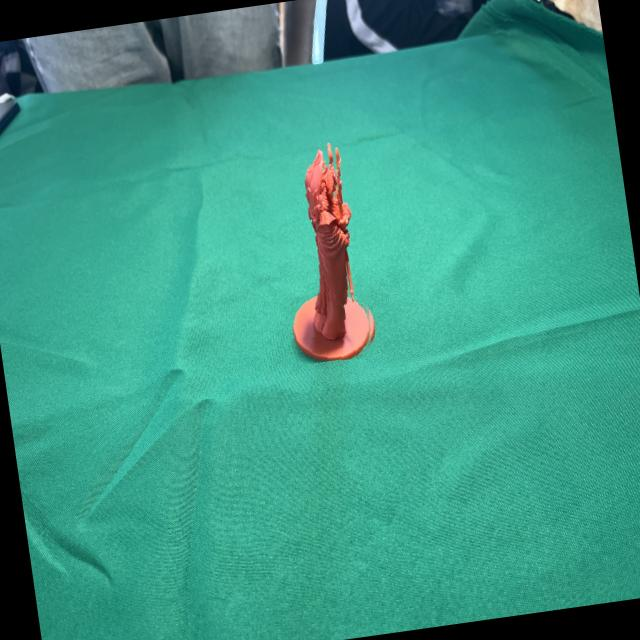amon: (262, 132, 384, 368)
